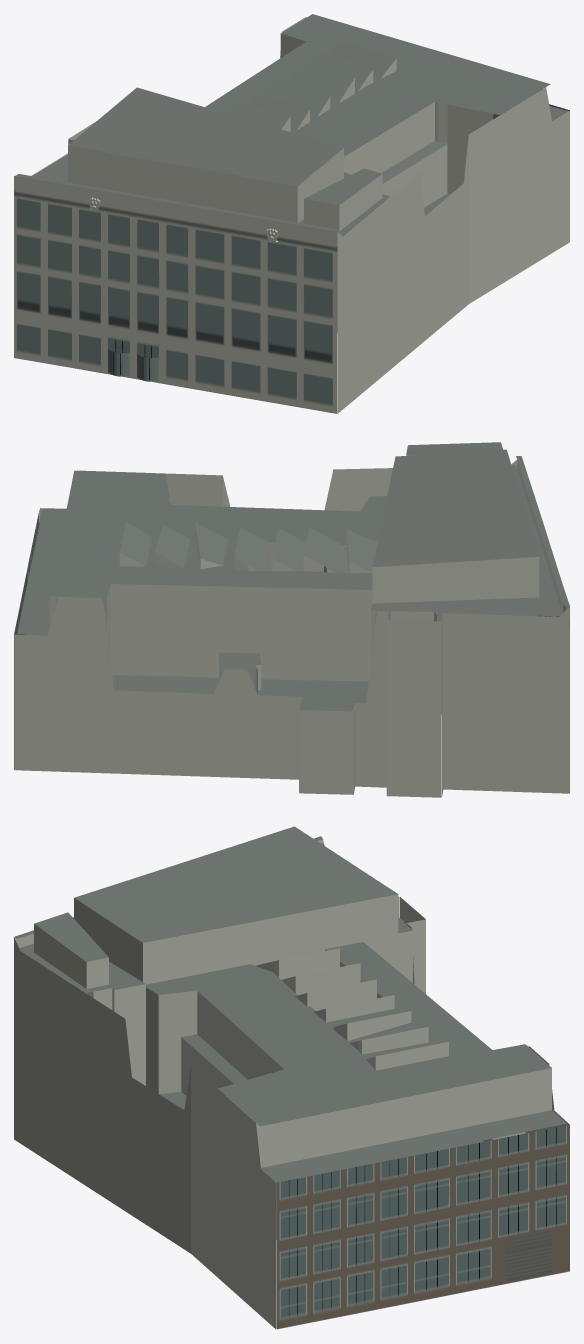
The picture shows the model from 3 angles, top to bottom: view 1: azimuth 30°, elevation 25°; view 2: azimuth 150°, elevation 25°; view 3: azimuth 270°, elevation 25°; orthographic projection. The views are drawn at different scales.
Visible parts, largest first — view 1: 0363100012168534; view 2: 0363100012168534; view 3: 0363100012168534.
Boxes of the visible parts, <box> form: 0363100012168534: <box>14,14,569,413</box>; 0363100012168534: <box>14,442,569,797</box>; 0363100012168534: <box>14,826,569,1329</box>.
Bounding box in the file's own units: 55.83 × 21.04 × 45.12.
3 materials, 1 textured.
